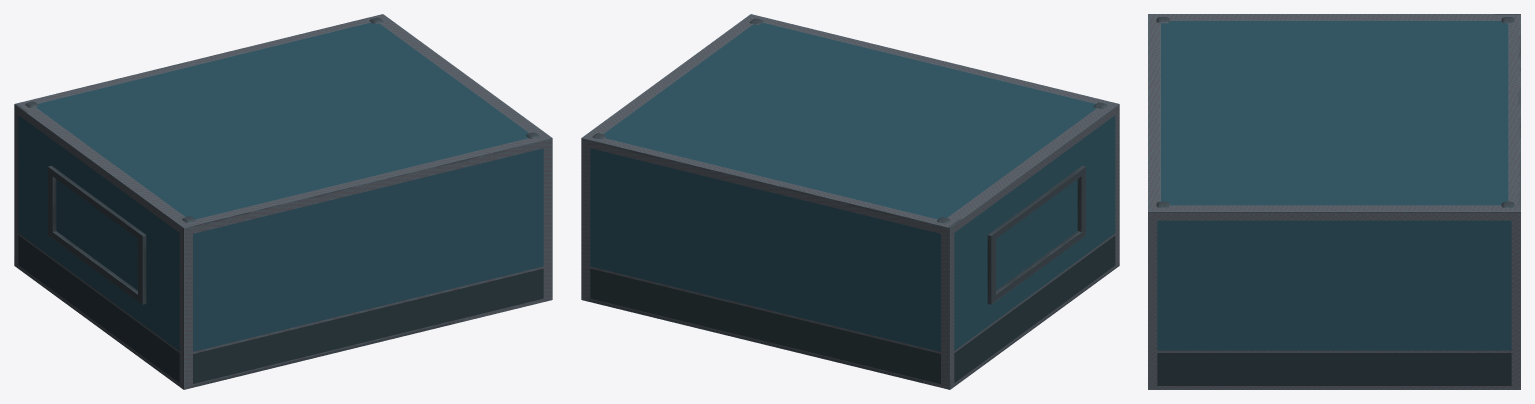
The model's file is Room_20251123.fbx.
3 views of the same model, side by side, from view 1: azimuth 30°, elevation 25°; view 2: azimuth 150°, elevation 25°; view 3: azimuth 270°, elevation 25° (orthographic). The views are drawn at different scales.
Parts seen in each view (by area): view 1: Room, Window; view 2: Room, Window; view 3: Room.
Boxes of the visible parts, box(x1,y1,x2,y2) form: Room: box(14, 14, 552, 389); Window: box(48, 165, 146, 304); Room: box(581, 14, 1119, 389); Window: box(987, 165, 1085, 304); Room: box(1148, 14, 1520, 389).
Bounding box in the file's own units: 1012 × 432 × 797.
